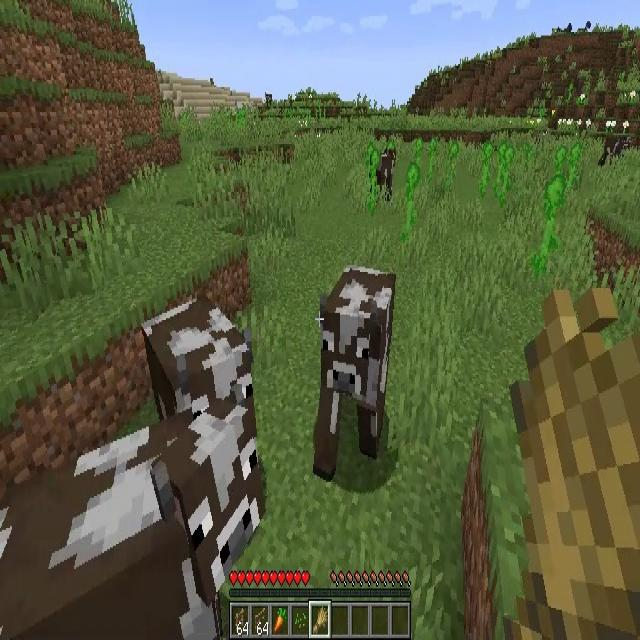cow: (1, 403, 271, 640), (316, 266, 392, 476), (142, 302, 255, 410), (368, 147, 397, 196), (599, 138, 631, 169)
